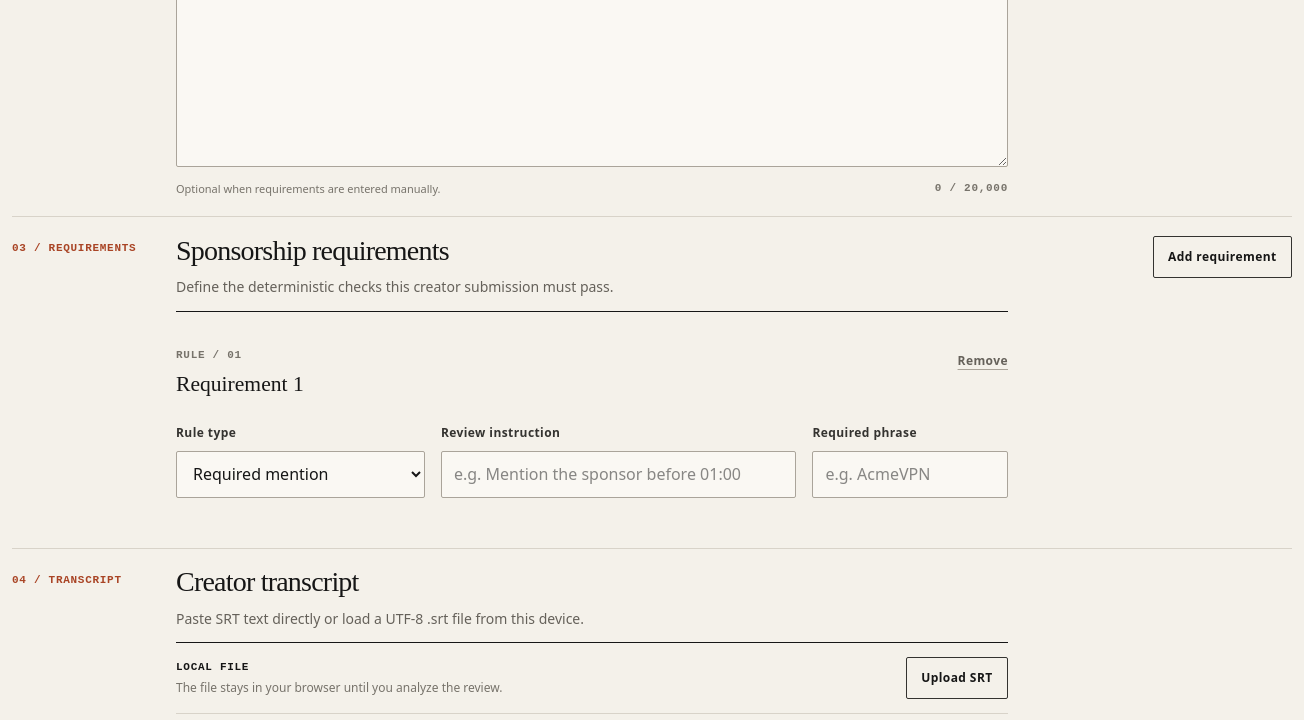
requirements workspace › removes requirements
(page scrolled)
Step 1. Click the button with aria-label "Remove requirement 1" → click(983, 361), box [958,340,1008,382]
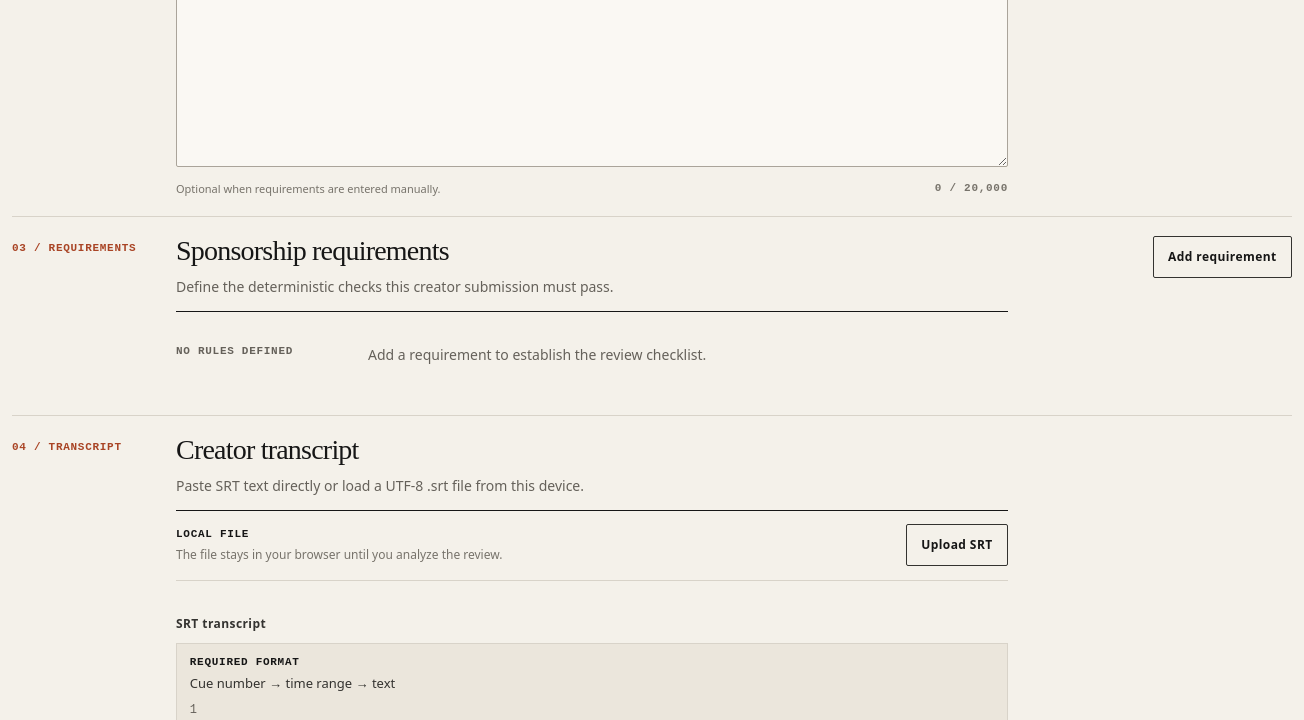
Check: the heading "Requirement 1" is gone
Check: the text "NO RULES DEFINED" is shown, box [176,345,293,357]
